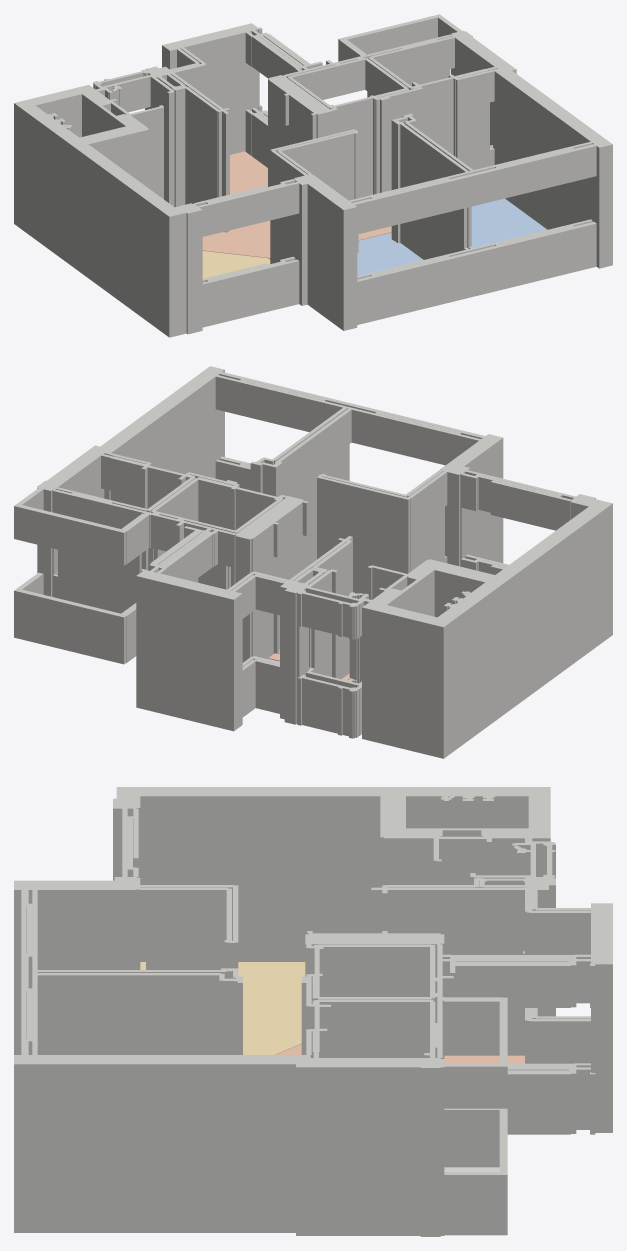
3 views of the same model, one above another, from view 1: azimuth 30°, elevation 25°; view 2: azimuth 150°, elevation 25°; view 3: azimuth 270°, elevation 25° (orthographic). The views are drawn at different scales.
Parts seen in each view (by area): view 1: walls, room:bedroom:5, room:kitchen:2, room:bedroom:8, room:kitchen:0, room:living:3; view 2: walls; view 3: walls, room:living:3, room:kitchen:0.
Boxes of the visible parts, left/top/right/bottom form: walls: left=14, top=14, right=612, bottom=337; room:bedroom:5: left=471, top=198, right=547, bottom=247; room:kitchen:2: left=202, top=220, right=391, bottom=259; room:bedroom:8: left=357, top=232, right=423, bottom=276; room:kitchen:0: left=230, top=151, right=267, bottom=194; room:living:3: left=202, top=251, right=270, bottom=278; walls: left=14, top=366, right=612, bottom=758; walls: left=14, top=787, right=612, bottom=1236; room:living:3: left=140, top=962, right=305, bottom=1054; room:kitchen:0: left=444, top=1055, right=524, bottom=1063.
Size of the model in its own units: 10 by 2.8 by 9.01.
